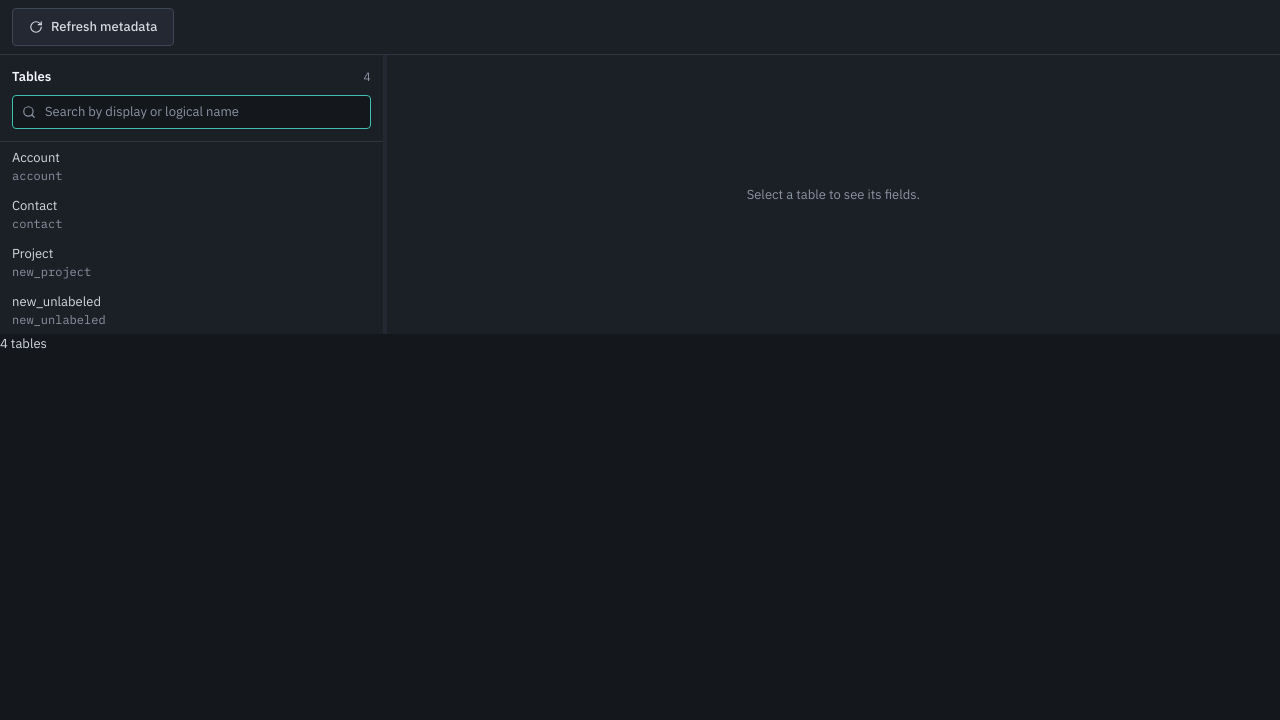
Scenario: Attribute Explorer › closes the modal when refresh no longer returns the field
Step 1. Click the button "Account account" → click(36, 158), box [0, 142, 383, 190]
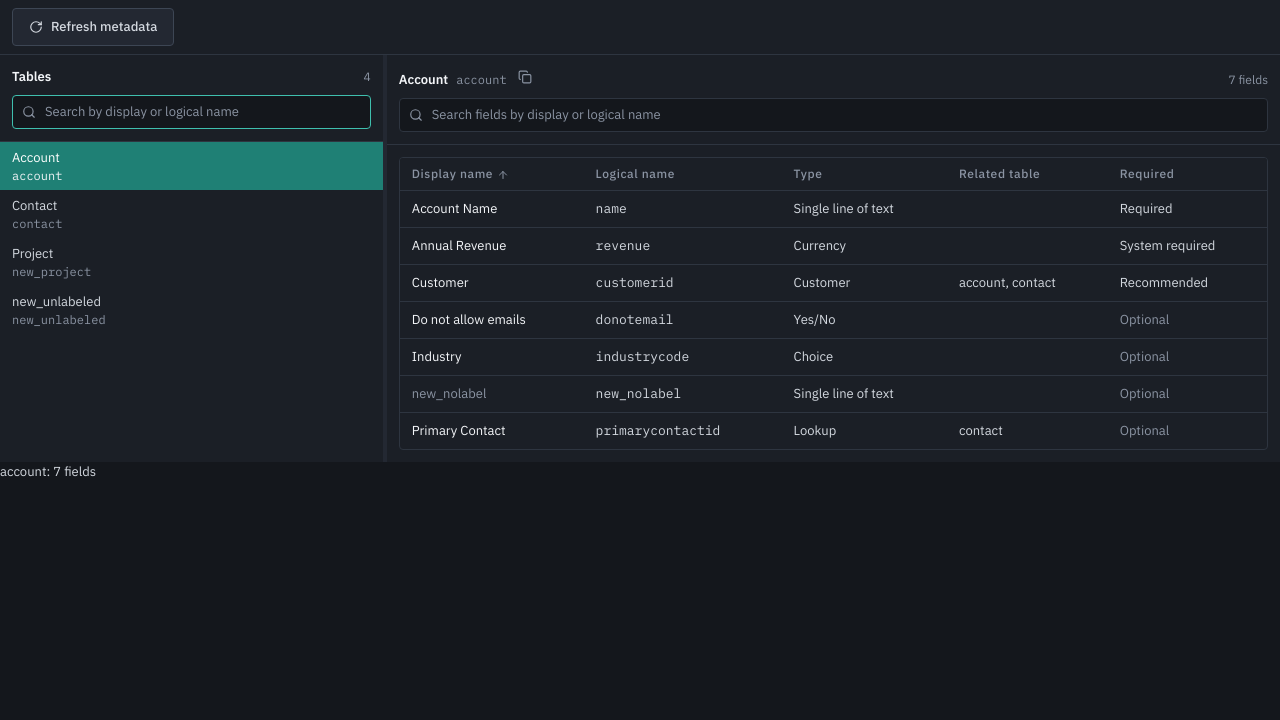
Step 2. Click the button "Annual Revenue" → click(459, 246), box [412, 236, 506, 256]
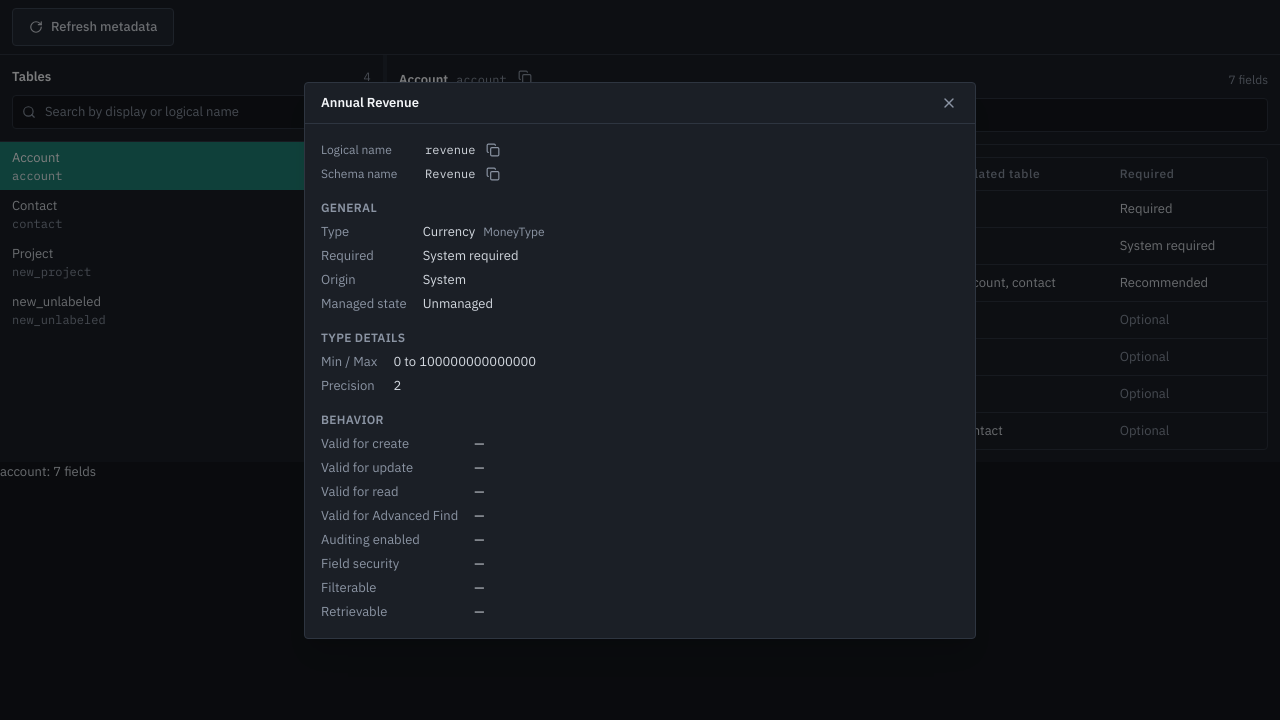
Expected: the heading "Annual Revenue" is shown, [321, 92, 419, 112]
Step 3. Press Escape
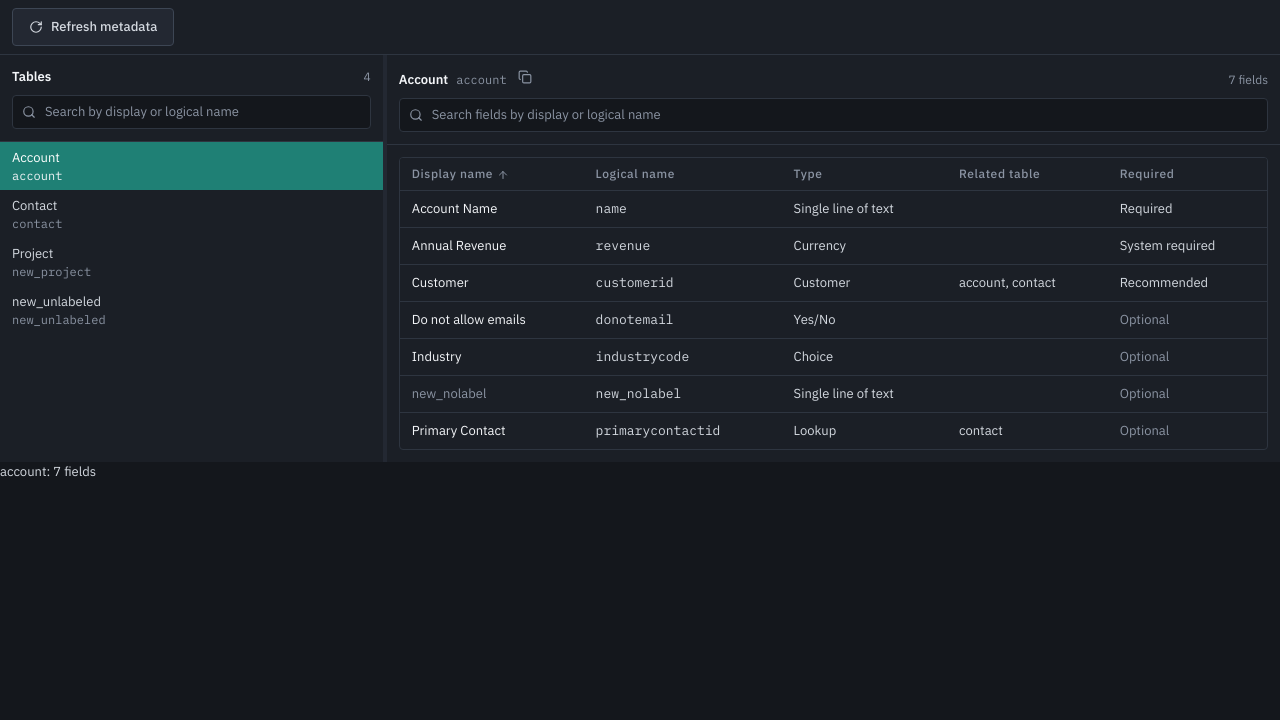
Step 4. Click the button "Refresh metadata" → click(93, 27), box [12, 8, 174, 46]
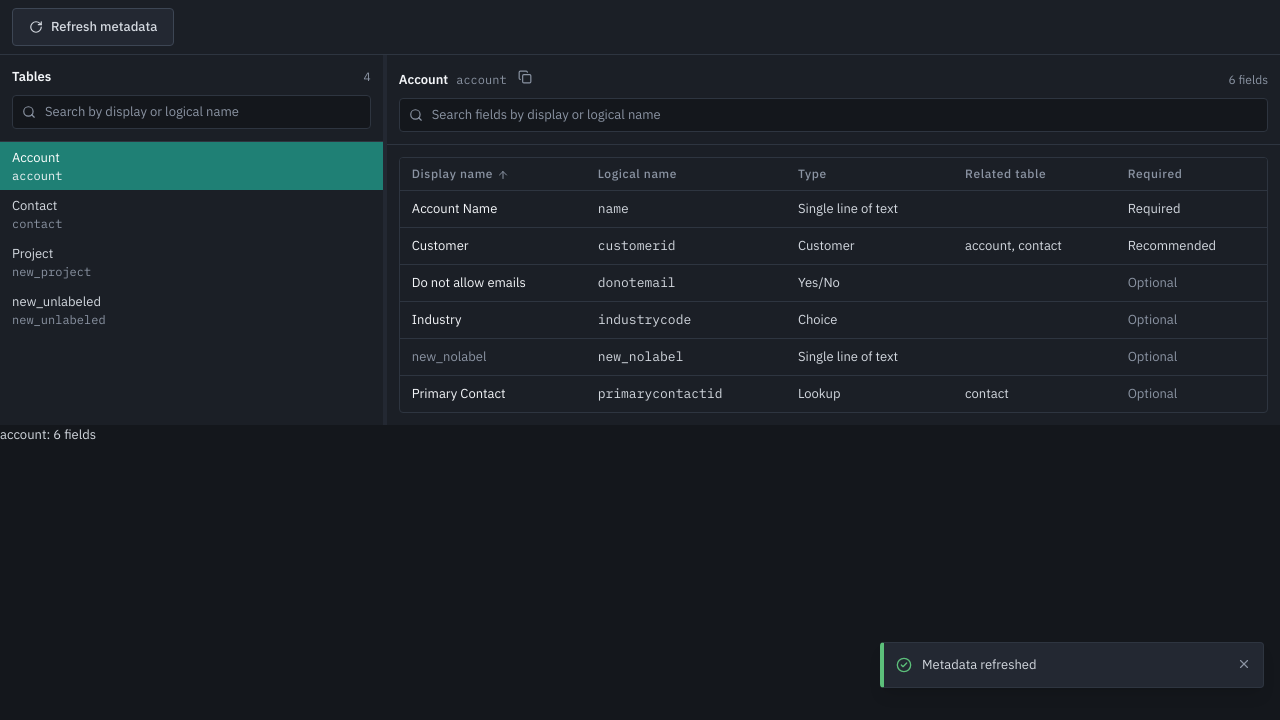
Expected: the message "Metadata refreshed" is shown, [880, 642, 1264, 688]
Expected: the button "Annual Revenue" is gone
